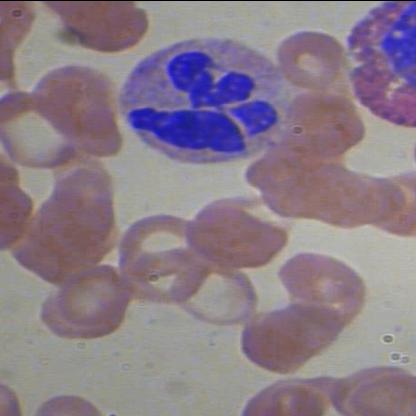RBC: (178, 197, 295, 276), (0, 90, 88, 174), (166, 257, 260, 331), (277, 86, 367, 163), (273, 243, 363, 311), (50, 257, 130, 327), (270, 21, 345, 92)
WBC: (112, 30, 288, 174), (348, 0, 416, 134)
